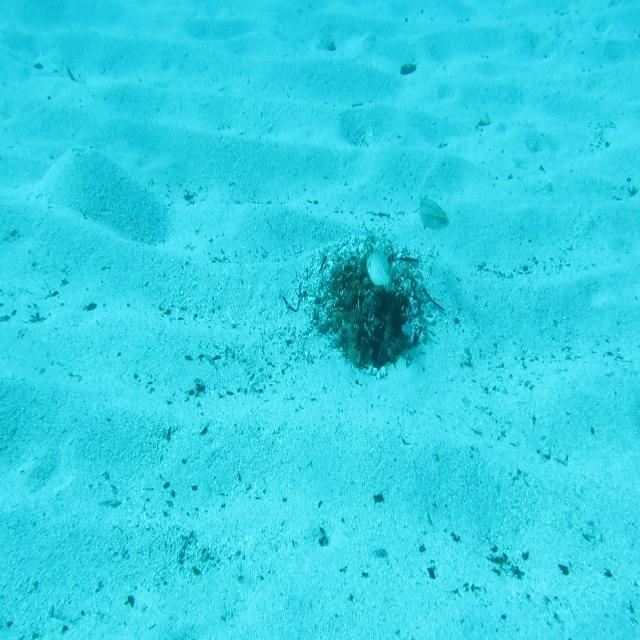ROLL: (362, 247, 407, 302)
female: (414, 188, 451, 240)
nest: (318, 232, 441, 373)
